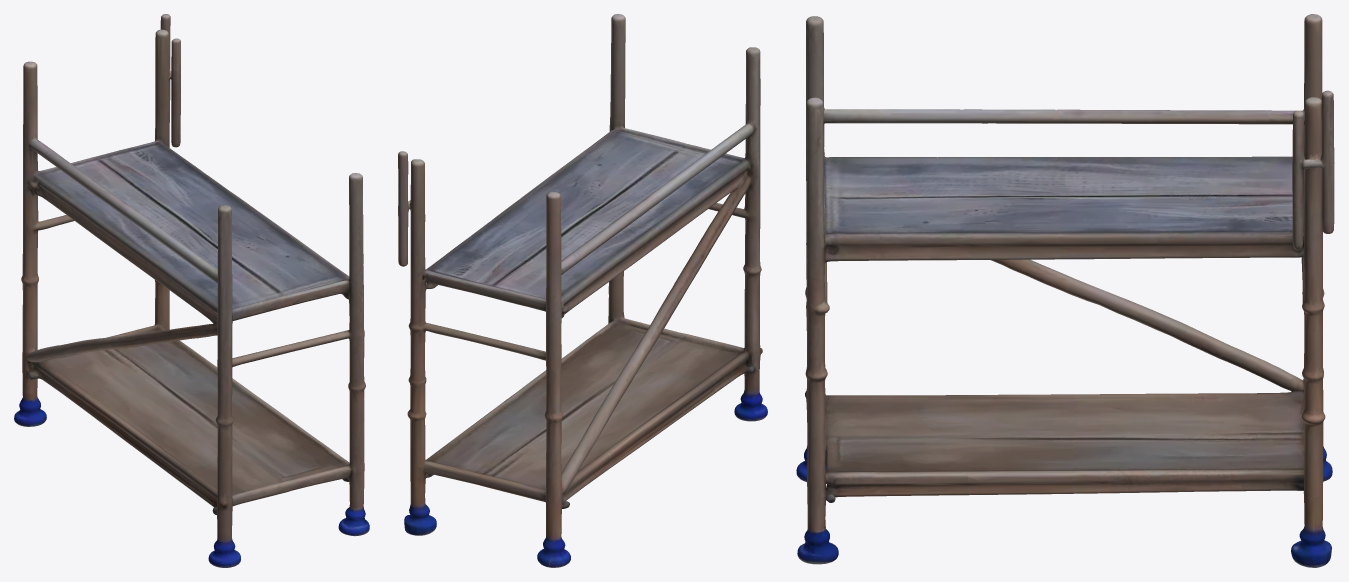
The model's file is scaffolding.glb.
The picture shows the model from 3 angles, left to right: view 1: azimuth 30°, elevation 25°; view 2: azimuth 150°, elevation 25°; view 3: azimuth 270°, elevation 25°; orthographic projection. The views are drawn at different scales.
Visible parts, largest first — view 1: tripo_node_3919b2f7-8ccd-4606-ac25-4815bbb32683; view 2: tripo_node_3919b2f7-8ccd-4606-ac25-4815bbb32683; view 3: tripo_node_3919b2f7-8ccd-4606-ac25-4815bbb32683.
Boxes of the visible parts, <box> form: tripo_node_3919b2f7-8ccd-4606-ac25-4815bbb32683: <box>14,14,369,567</box>; tripo_node_3919b2f7-8ccd-4606-ac25-4815bbb32683: <box>398,14,767,567</box>; tripo_node_3919b2f7-8ccd-4606-ac25-4815bbb32683: <box>796,14,1334,567</box>.
Bounding box in the file's own units: 0.4172 × 0.9243 × 0.9476.
1 material, 1 textured.
